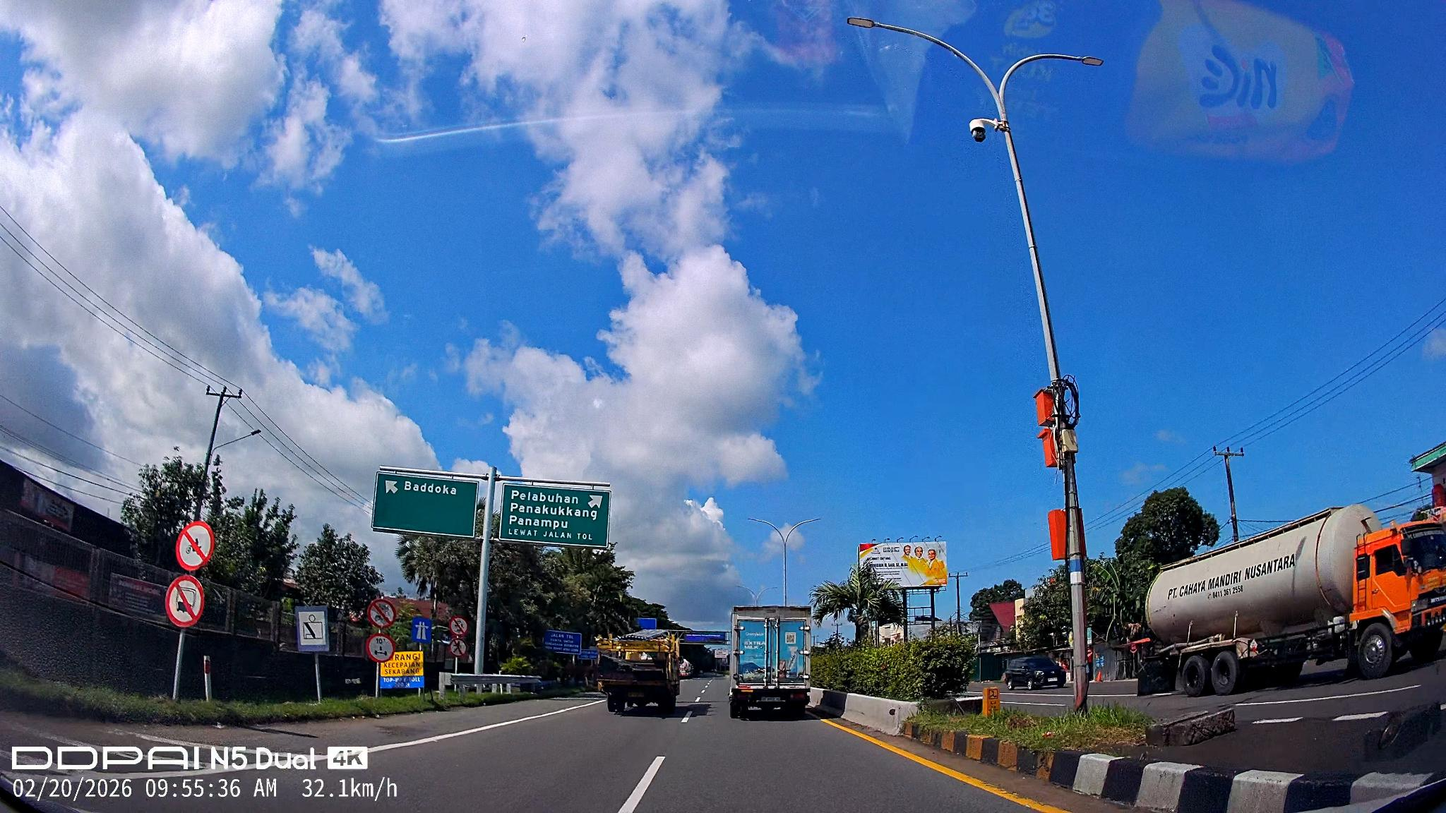rambu_teks: (498, 482, 612, 549), (370, 471, 480, 539)
